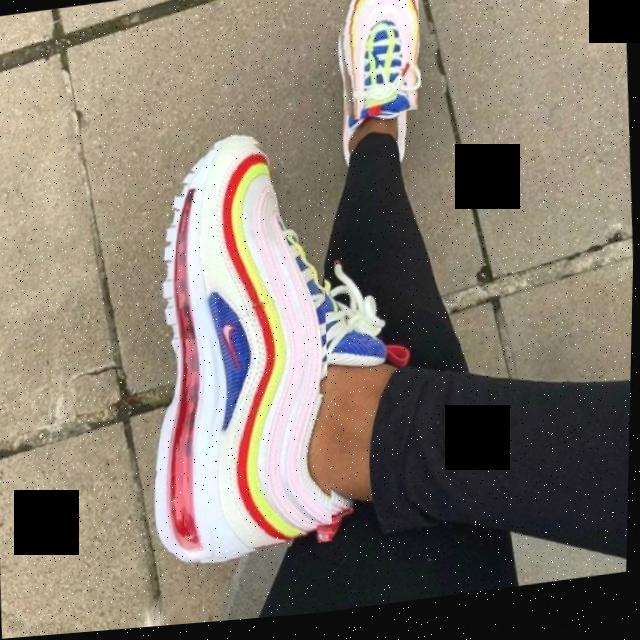shoe: (139, 134, 343, 568), (330, 0, 424, 128)
